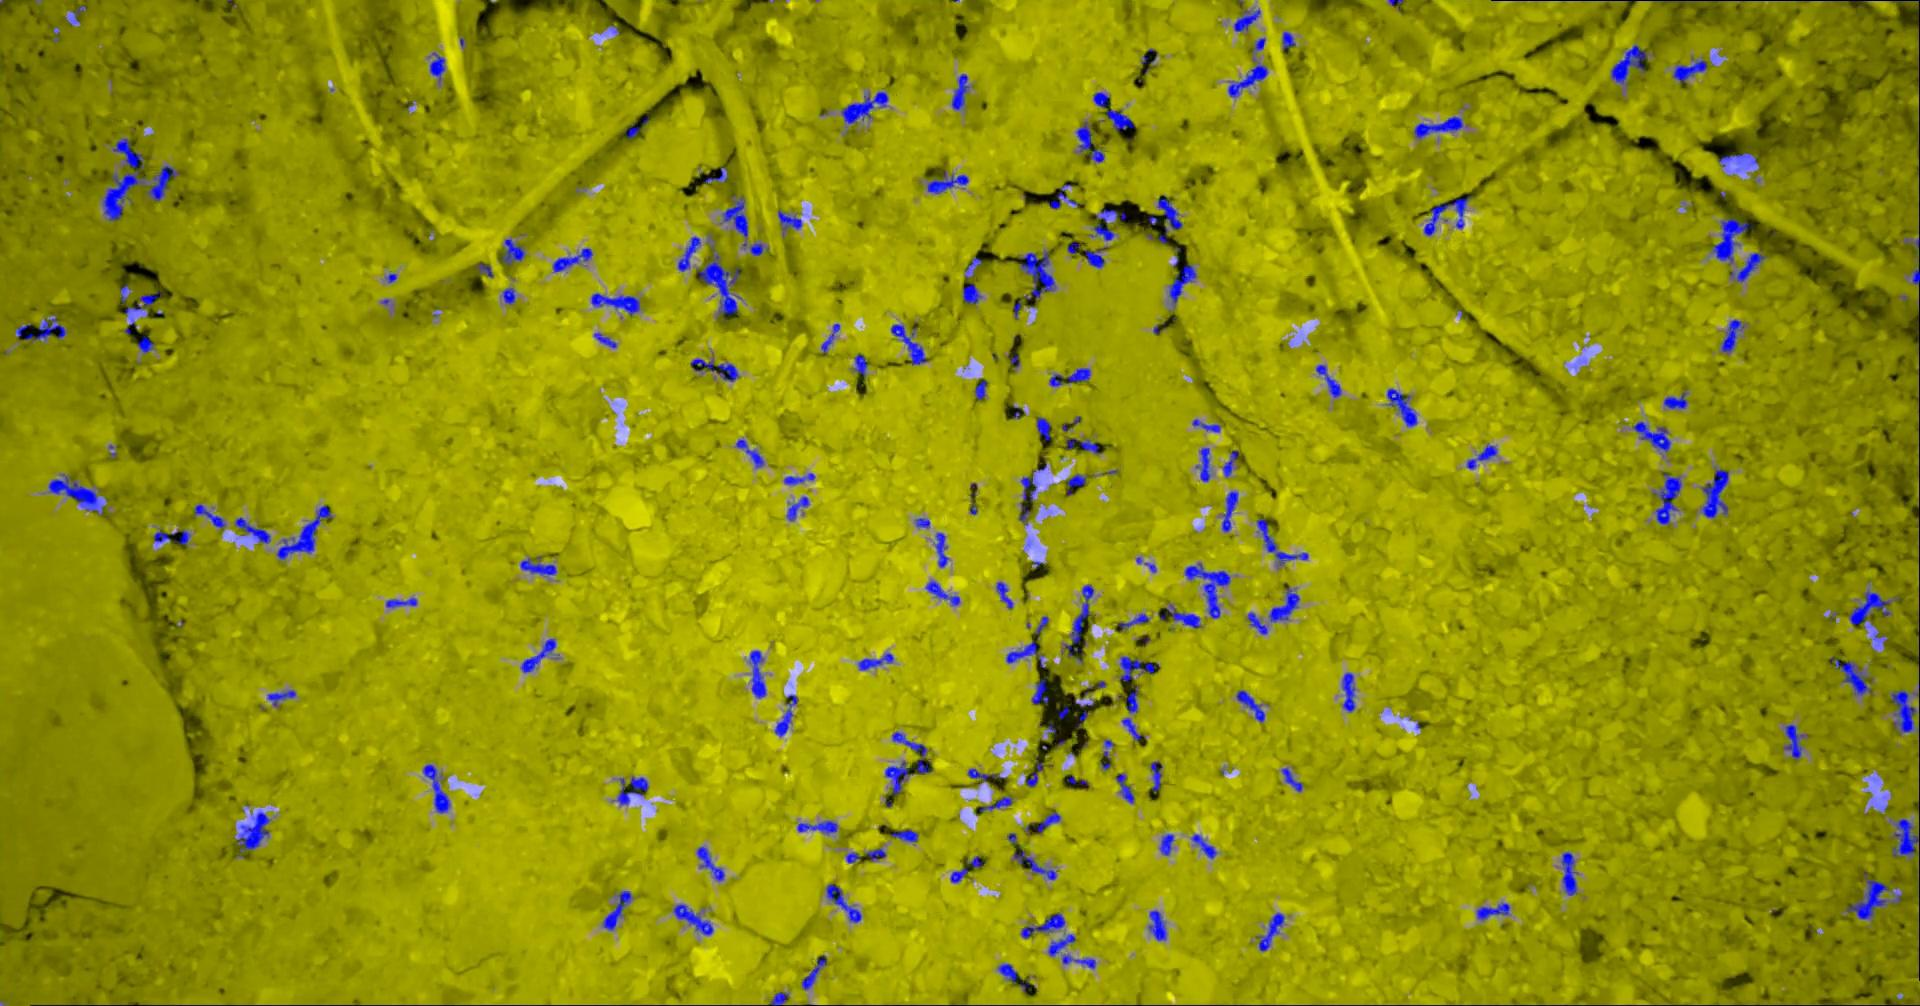ant: (276, 504, 331, 559), (697, 246, 740, 314), (723, 196, 768, 255), (1183, 561, 1230, 619), (1256, 518, 1307, 565), (48, 473, 104, 514), (1062, 584, 1093, 655), (1846, 871, 1890, 920), (1710, 217, 1752, 262), (1423, 196, 1470, 235), (1018, 250, 1055, 298), (891, 730, 932, 774), (235, 810, 269, 857), (1829, 655, 1870, 694), (1093, 91, 1134, 130), (1652, 473, 1681, 525), (841, 91, 888, 123), (890, 324, 926, 365), (1848, 589, 1890, 624), (825, 883, 861, 922), (1227, 62, 1267, 97), (422, 763, 450, 813), (1610, 44, 1646, 83), (1702, 467, 1728, 517), (17, 314, 65, 340), (1013, 850, 1057, 879), (1728, 249, 1766, 281), (1168, 264, 1196, 307), (1891, 688, 1919, 732), (673, 903, 712, 934), (521, 638, 555, 672), (1076, 121, 1103, 163), (1385, 387, 1416, 426), (1632, 420, 1670, 451), (602, 890, 631, 930), (1255, 912, 1284, 951), (1020, 912, 1064, 937), (1269, 586, 1299, 622), (1413, 116, 1462, 138), (590, 292, 639, 315), (690, 358, 738, 381), (147, 165, 179, 199), (1891, 818, 1919, 856), (1093, 208, 1126, 240), (1119, 655, 1159, 681), (234, 516, 270, 542), (1157, 194, 1182, 232), (884, 761, 913, 794), (775, 694, 797, 735), (696, 846, 724, 880), (927, 170, 968, 193), (124, 290, 160, 315), (1672, 58, 1712, 81), (552, 248, 592, 271), (1236, 690, 1263, 721), (616, 776, 648, 804), (950, 855, 983, 882), (1783, 724, 1807, 760), (1316, 365, 1341, 398), (924, 580, 959, 605), (801, 955, 825, 989), (1164, 605, 1200, 627), (1719, 319, 1743, 352), (677, 236, 700, 271), (735, 439, 763, 467), (1049, 367, 1090, 386), (1004, 640, 1037, 663), (193, 504, 223, 528), (749, 650, 764, 699), (1561, 851, 1577, 895), (519, 556, 556, 575), (1465, 445, 1496, 467), (951, 72, 969, 111), (777, 210, 801, 236), (502, 238, 524, 265), (152, 528, 190, 545), (858, 652, 893, 669), (1048, 934, 1076, 955), (1222, 492, 1237, 531), (1476, 902, 1509, 920), (1121, 716, 1145, 741), (820, 323, 839, 353), (1191, 835, 1217, 857), (1233, 9, 1260, 30), (1049, 183, 1070, 210), (796, 821, 837, 835), (1036, 810, 1060, 833), (1718, 152, 1757, 166), (1148, 909, 1166, 940), (1115, 774, 1134, 801), (1020, 473, 1036, 504), (1117, 614, 1149, 630), (1065, 438, 1100, 453), (1195, 447, 1210, 481), (978, 795, 1012, 810), (786, 495, 808, 520), (1341, 672, 1354, 713), (1062, 953, 1095, 968), (267, 688, 295, 706), (1076, 699, 1093, 727), (1281, 767, 1302, 791), (935, 532, 949, 567), (1222, 450, 1239, 476), (1025, 760, 1043, 786), (429, 52, 444, 83), (996, 580, 1012, 608), (968, 768, 999, 782), (1247, 612, 1267, 634), (998, 963, 1020, 983), (1065, 473, 1084, 495), (1121, 685, 1137, 713), (1031, 678, 1048, 704), (964, 255, 982, 278), (703, 166, 728, 183), (1663, 391, 1688, 408), (1084, 248, 1103, 268), (963, 283, 980, 304), (1911, 238, 1919, 285), (853, 353, 867, 379), (1192, 419, 1220, 432), (593, 332, 616, 347), (783, 473, 814, 484), (1150, 761, 1162, 791), (1159, 833, 1175, 855), (385, 597, 417, 607), (1036, 417, 1050, 439), (890, 829, 917, 841), (136, 335, 154, 352), (1035, 615, 1048, 636), (1281, 30, 1295, 50), (621, 124, 640, 138), (770, 991, 789, 1005), (974, 379, 987, 399), (1018, 500, 1029, 525), (1065, 775, 1088, 785), (865, 848, 885, 860), (476, 263, 493, 277), (502, 287, 516, 304), (1252, 37, 1265, 50), (916, 517, 930, 527), (844, 852, 858, 862)
